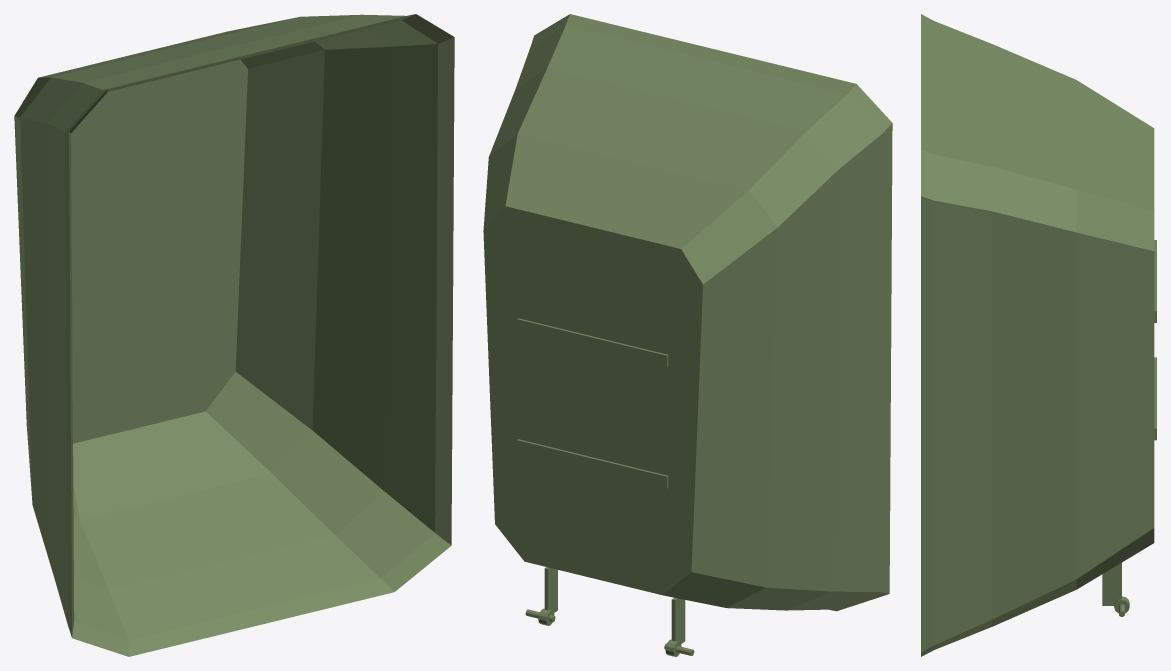
Rendered from tray.glb.
3 renders of one model, left to right at view 1: azimuth 30°, elevation 25°; view 2: azimuth 150°, elevation 25°; view 3: azimuth 270°, elevation 25°, orthographic. The views are drawn at different scales.
Visible parts, largest first — view 1: tray.001; view 2: tray.001; view 3: tray.001.
Part boxes in pixels (x1,y1,x2,y2): tray.001: (14,14,454,656); tray.001: (483,14,892,656); tray.001: (921,14,1156,656).
Size of the model in its own units: 0.62 by 0.88 by 0.364.
